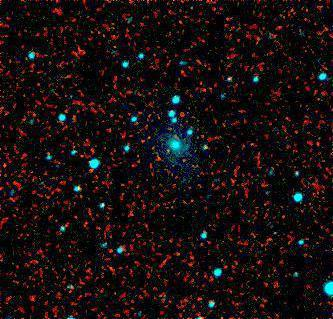star: (153, 136, 183, 166)
